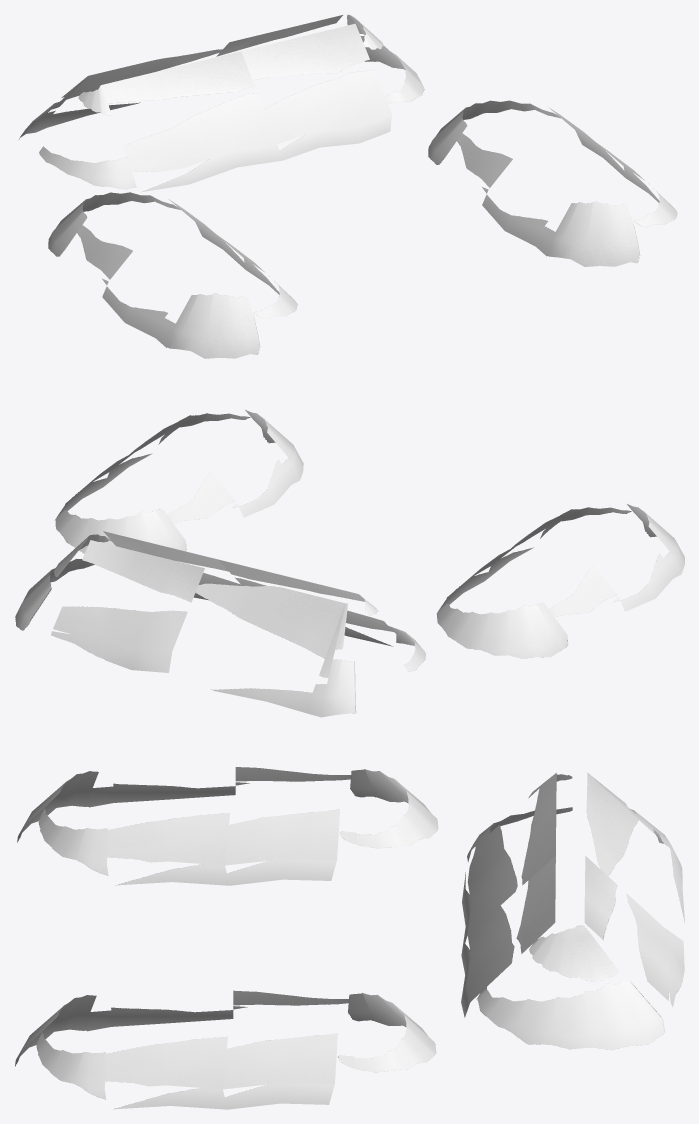
The model's file is roof_cc_m_02.dae.
3 renders of one model, top to bottom at view 1: azimuth 30°, elevation 25°; view 2: azimuth 150°, elevation 25°; view 3: azimuth 270°, elevation 25°, orthographic. The views are drawn at different scales.
Parts seen in each view (by area): view 1: roof_cc_minor_02; view 2: roof_cc_minor_02; view 3: roof_cc_minor_02.
Boxes of the visible parts, box(x1,y1,x2,y2) form: roof_cc_minor_02: box(19, 14, 677, 358); roof_cc_minor_02: box(15, 410, 684, 717); roof_cc_minor_02: box(15, 767, 684, 1109).
Size of the model in its own units: 26.78 by 24.52 by 4.55.
